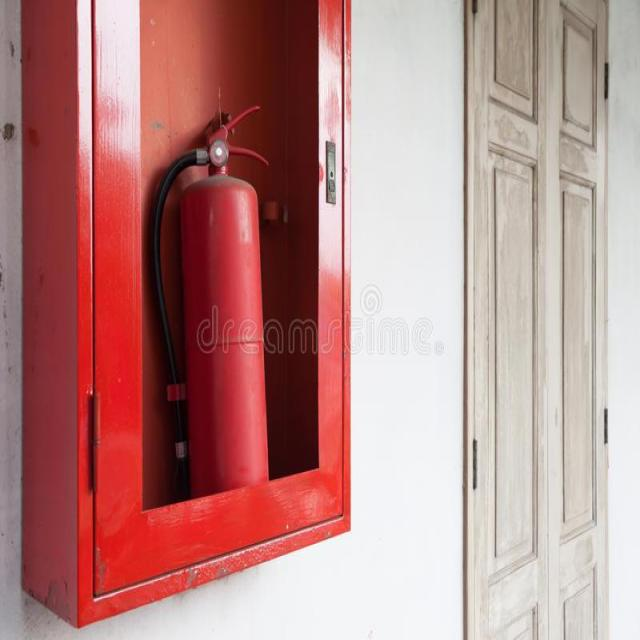fire_extinguisher: (146, 98, 276, 560)
